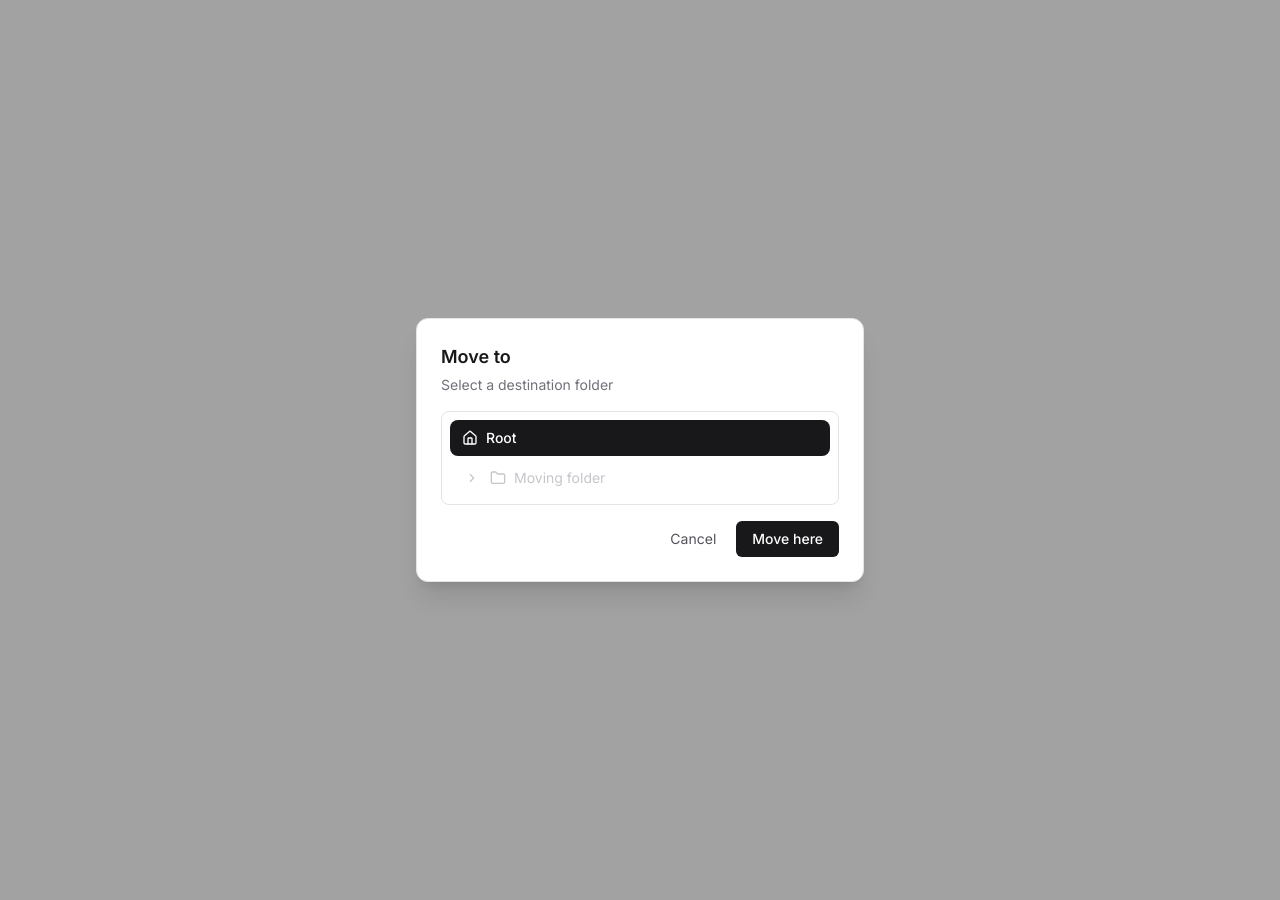
MoveDialog › blocks a moving folder and all of its descendants
The width and height of the screenshot is (1280, 900).
Check: the button "Moving folder" is disabled, box 490,468 -> 818,488
Click the 2nd button. click: {"x": 472, "y": 478}
box: 462,468 -> 482,488
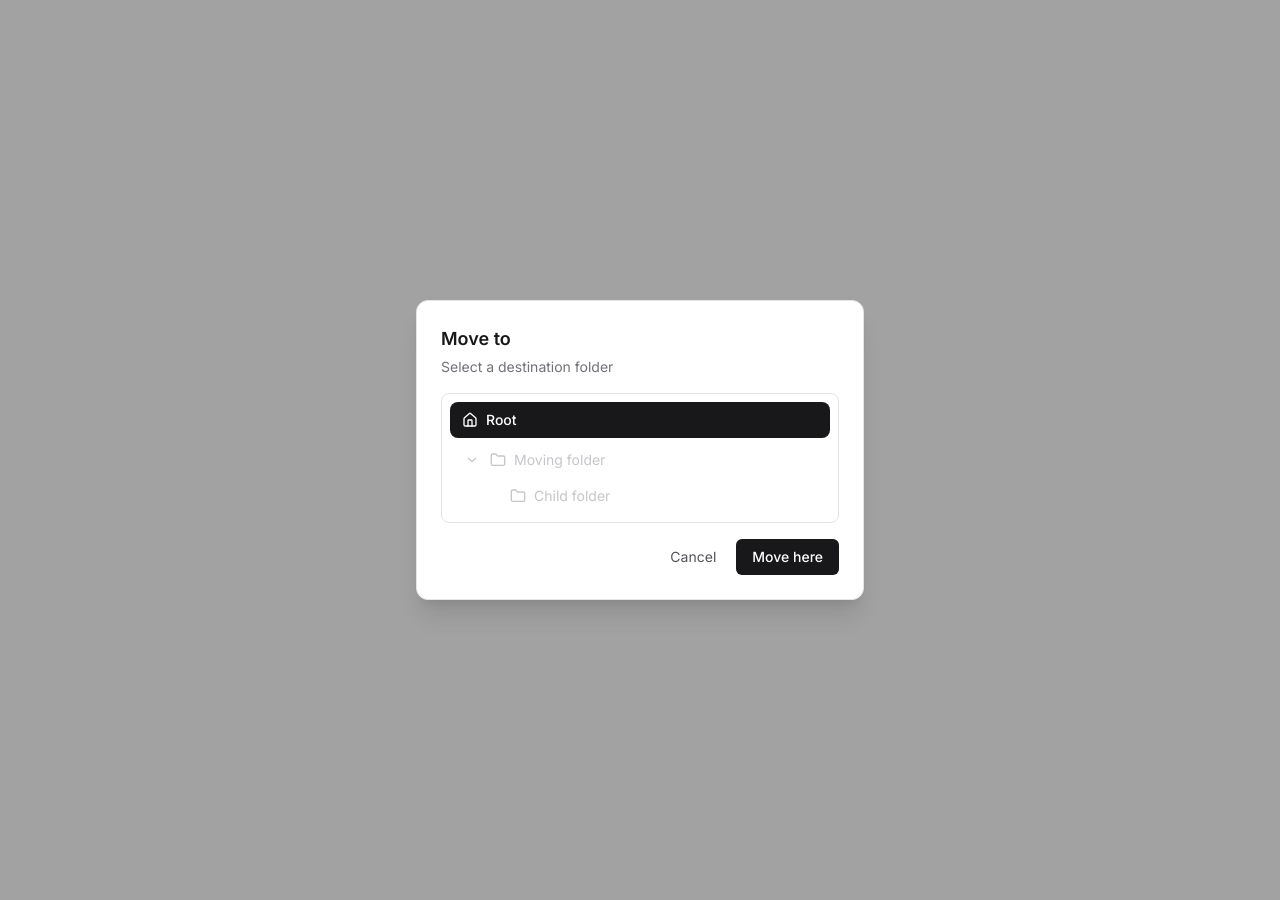
Check: the button "Child folder" is disabled, box 510,486 -> 818,506
